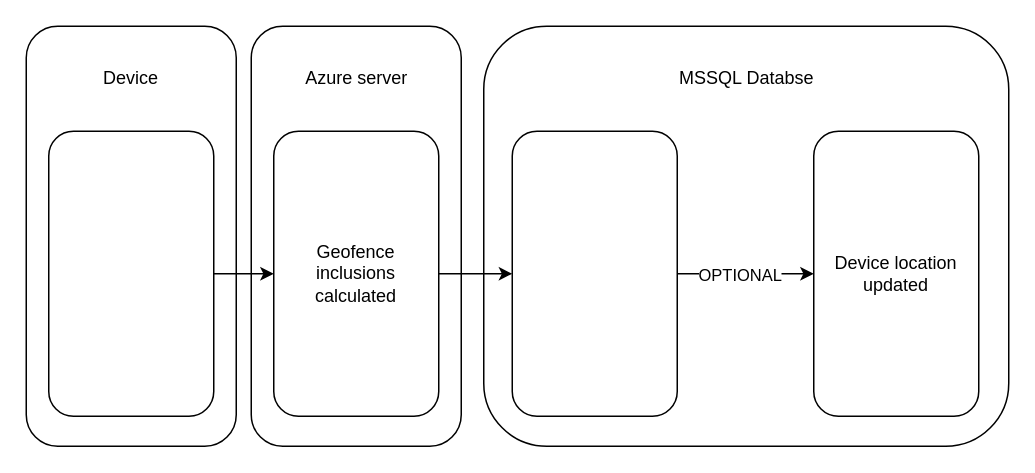
This 1035x473 diagram has some shape labels left out. Here are the shapes that lost their labels. From the top down, the centre of each, then its label:
(x=130, y=273): Encrpyted location data sent to API
(x=594, y=273): Device status updated
